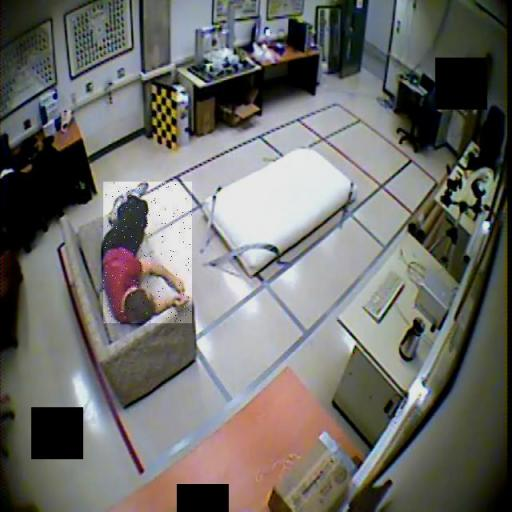Fall: (103, 182, 192, 323)
